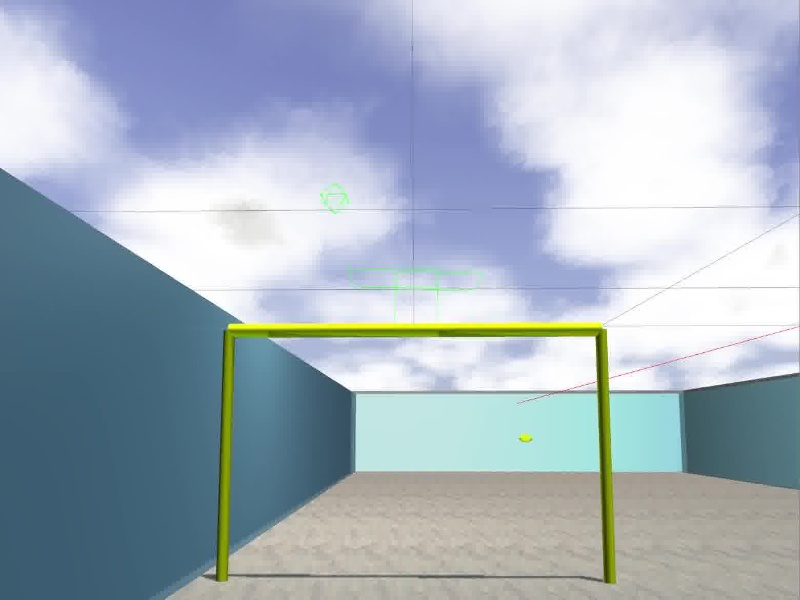gate: (215, 322, 618, 585)
